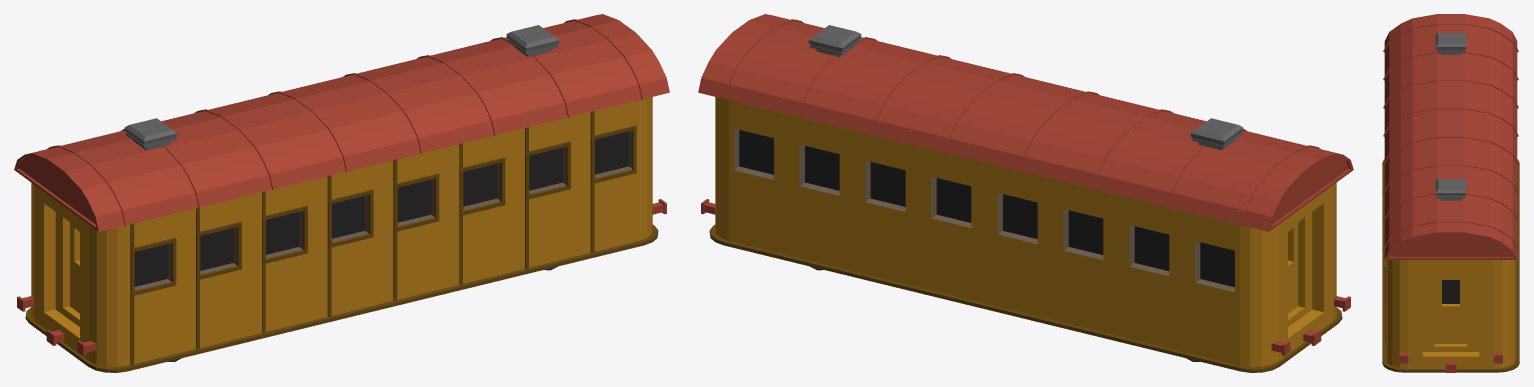
Rendered from SteamTrainCarriage.glb.
The picture shows the model from 3 angles, left to right: view 1: azimuth 30°, elevation 25°; view 2: azimuth 150°, elevation 25°; view 3: azimuth 270°, elevation 25°; orthographic projection. The views are drawn at different scales.
Parts seen in each view (by area): view 1: Locomotive_PassengerWagon.001; view 2: Locomotive_PassengerWagon.001; view 3: Locomotive_PassengerWagon.001.
Boxes of the visible parts, box(x1,y1,x2,y2) form: Locomotive_PassengerWagon.001: box(14, 14, 669, 372); Locomotive_PassengerWagon.001: box(698, 14, 1353, 372); Locomotive_PassengerWagon.001: box(1382, 14, 1519, 372).
Size of the model in its own units: 8.06 by 2.95 by 2.1.
